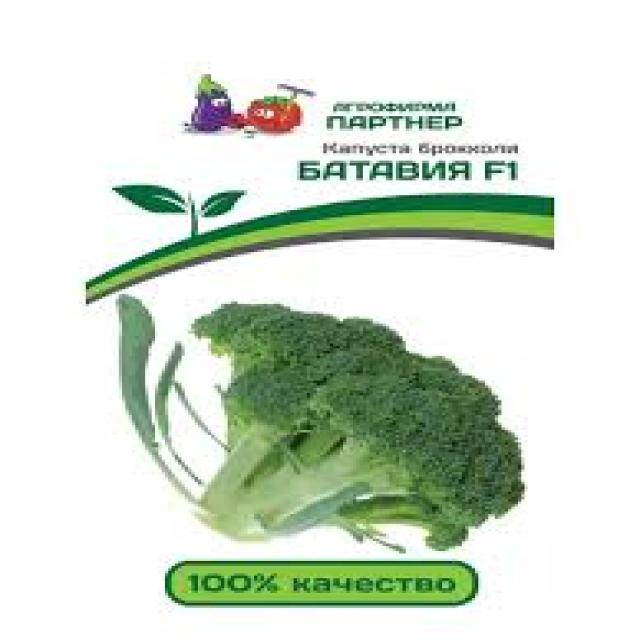broccoli: (182, 297, 563, 571)
